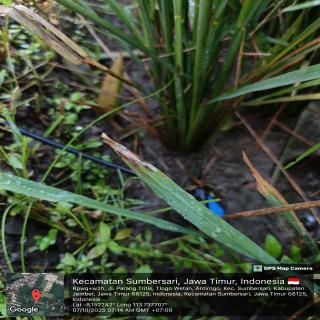Blast: (116, 148, 155, 184)
